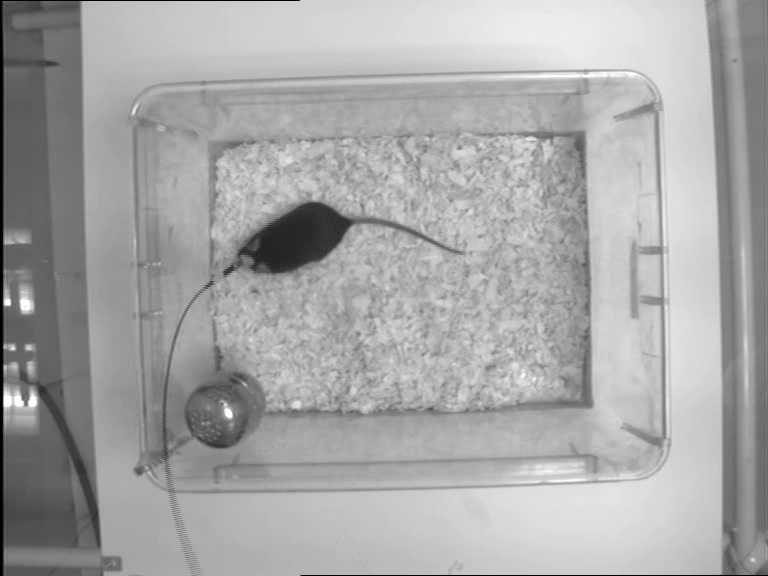mice: (231, 199, 466, 277)
